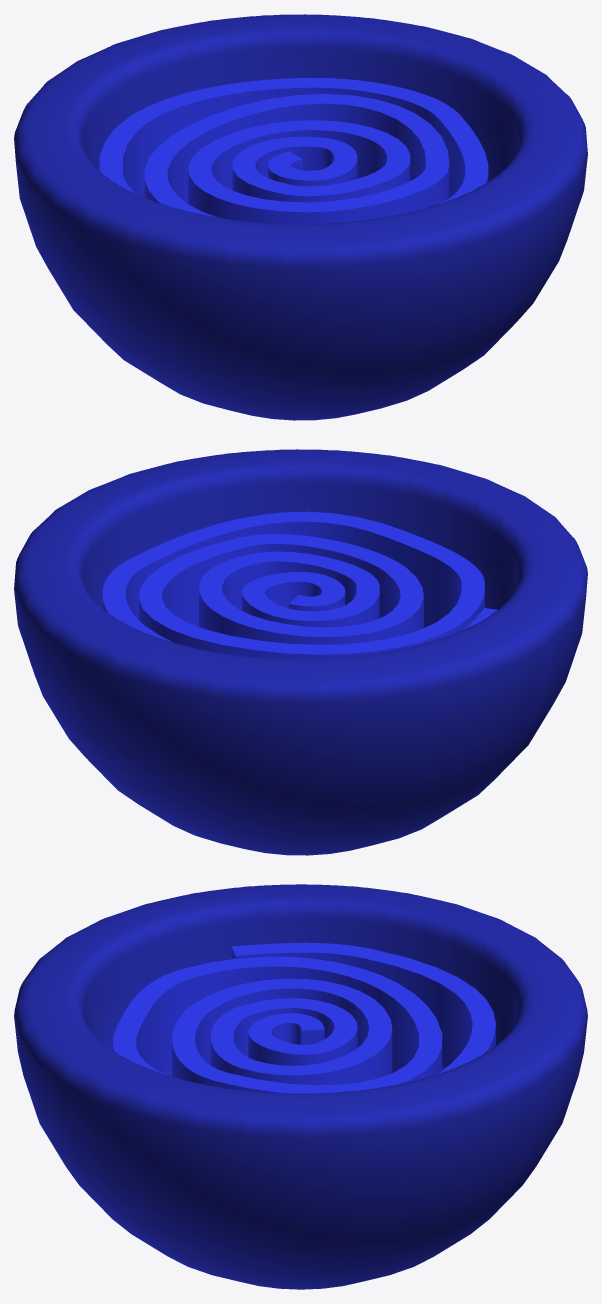
Rendered from Amiloplasto.glb.
3 renders of one model, top to bottom at view 1: azimuth 30°, elevation 25°; view 2: azimuth 150°, elevation 25°; view 3: azimuth 270°, elevation 25°, orthographic.
Parts seen in each view (by area): view 1: amiloplasto; view 2: amiloplasto; view 3: amiloplasto.
Part boxes in pixels (x1=…): amiloplasto: x1=14, y1=14, x2=587, y2=420; amiloplasto: x1=14, y1=449, x2=587, y2=855; amiloplasto: x1=14, y1=884, x2=587, y2=1289.
Size of the model in its own units: 0.4047 by 0.2072 by 0.4047.
